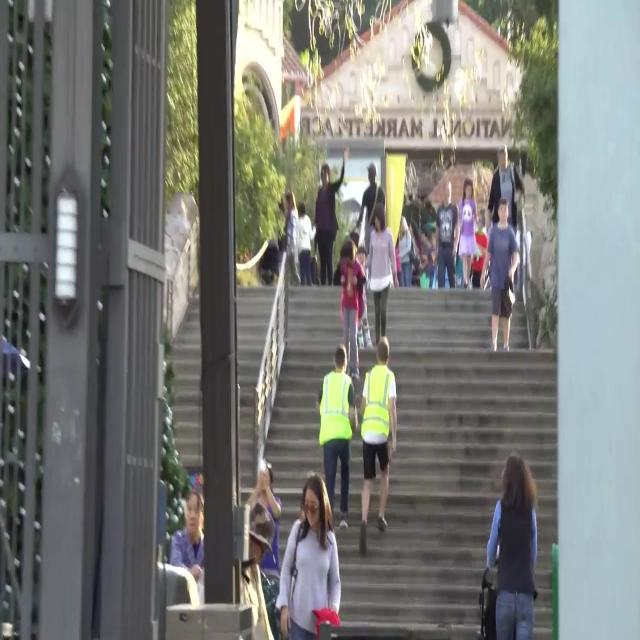Reflective-Jacket: (317, 372, 353, 444), (361, 364, 394, 442)
